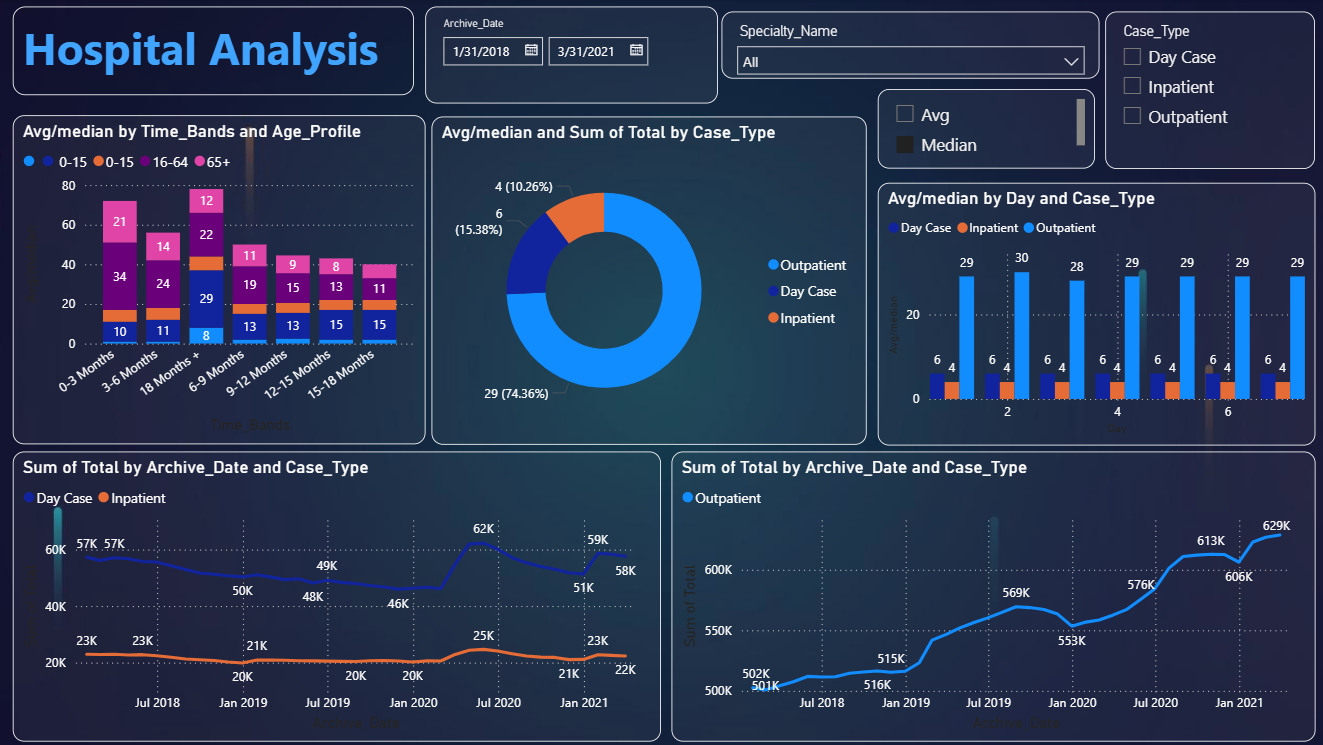

What the dashboard file says about the page in this screenshot:
{"tool":"powerbi","page":{"name":"Page 1","canvas":[1280,720],"ordinal":0},"visuals":[{"type":"slicer","fields":{"Values":["Calc_Method.Calculation"]},"box":[848,86.4,209.9,76.8],"z":0},{"type":"donutChart","fields":{"Category":["All_Data.Case_Type"],"Y":["All_Data.Avg/median"]},"box":[417.2,113.9,419.9,317],"z":1000},{"type":"columnChart","fields":{"Series":["All_Data.Age_Profile"],"Y":["All_Data.Avg/median"],"Category":["All_Data.Time_Bands"]},"box":[13.3,112.2,398.1,317.3],"z":2000},{"type":"slicer","fields":{"Values":["All_Data.Specialty_Name"]},"box":[697.1,12.3,365,64.5],"z":3000},{"type":"slicer","fields":{"Values":["All_Data.Archive_Date"]},"box":[411.7,6.9,282.7,93.3],"z":4000},{"type":"lineChart","fields":{"Y":["Sum(All_Data.Total)"],"Series":["All_Data.Case_Type"],"Category":["All_Data.Archive_Date"]},"box":[13.7,436.4,625.7,279.9],"z":5000},{"type":"lineChart","fields":{"Y":["Sum(All_Data.Total)"],"Series":["All_Data.Case_Type"],"Category":["All_Data.Archive_Date"]},"box":[649.1,436.4,621.6,279.9],"z":6000},{"type":"slicer","fields":{"Values":["All_Data.Case_Type"]},"box":[1067.7,12.1,202.7,152],"z":7000},{"type":"clusteredColumnChart","fields":{"Category":["All_Data.Day"],"Series":["All_Data.Case_Type"],"Y":["All_Data.Avg/median"]},"box":[848,177,422.6,253.9],"z":8000},{"type":"textbox","box":[13.3,7.2,387.3,85.7],"z":9000}]}

Visuals, with their boxes in screenshot pixels (x1, y1, x2, y2), scaled from the page's 1280x720 canvas onto the 1323x745 screenshot:
slicer - Calc_Method.Calculation: 876/89/1093/169
donutChart - All_Data.Case_Type x All_Data.Avg/median: 431/118/865/446
columnChart - All_Data.Age_Profile x All_Data.Avg/median: 14/116/425/444
slicer - All_Data.Specialty_Name: 721/13/1098/79
slicer - All_Data.Archive_Date: 426/7/718/104
lineChart - Sum(All_Data.Total) x All_Data.Case_Type: 14/452/661/741
lineChart - Sum(All_Data.Total) x All_Data.Case_Type: 671/452/1313/741
slicer - All_Data.Case_Type: 1104/13/1313/170
clusteredColumnChart - All_Data.Day x All_Data.Case_Type: 876/183/1313/446
textbox: 14/7/414/96
